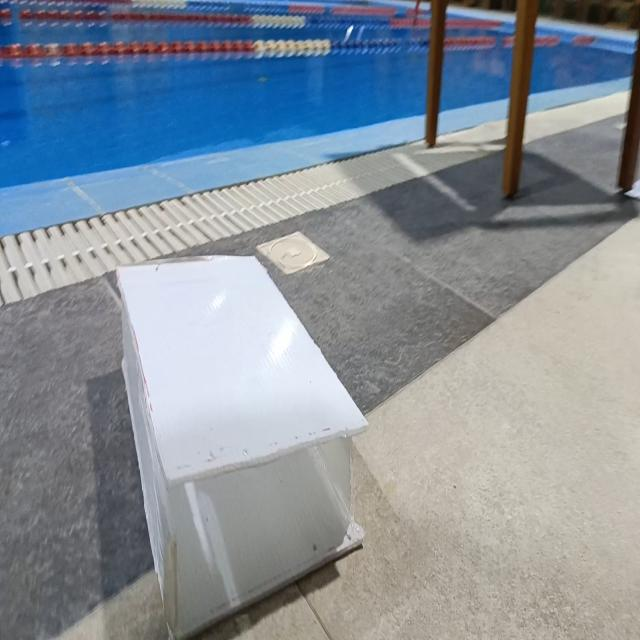Cuboid: (115, 252, 369, 636)
